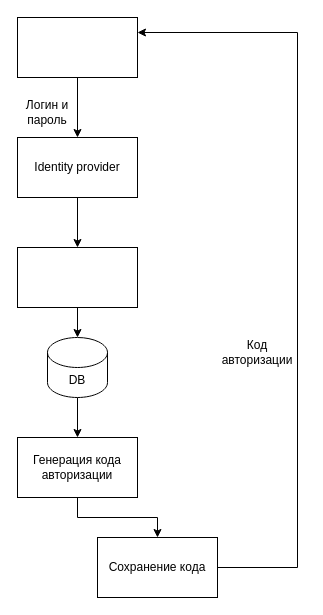
Image size: 323x615. Some labels were removed from this diagram. Here are the shapes that lost their labels. From the top down, the box of each, then its label:
(16, 16, 138, 78): Пользователь
(16, 246, 138, 308): Проверка пользователя
